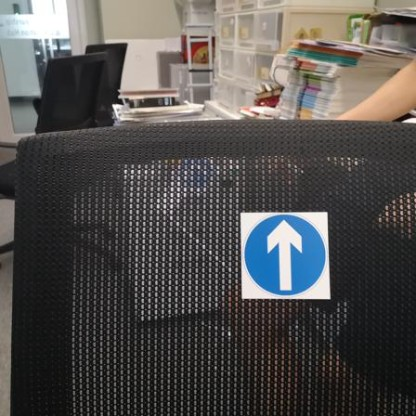forward: (242, 209, 334, 304)
